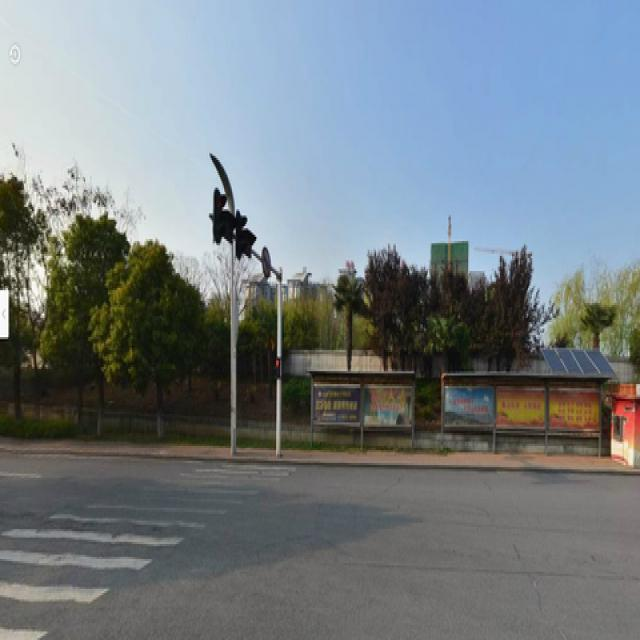cinn: (117, 256, 188, 437), (49, 241, 107, 420)
